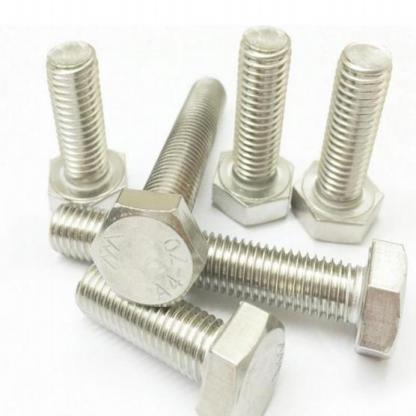FOD: (47, 200, 409, 362), (71, 259, 288, 415), (90, 75, 228, 310), (290, 38, 394, 245), (211, 24, 296, 228), (44, 39, 129, 216)
